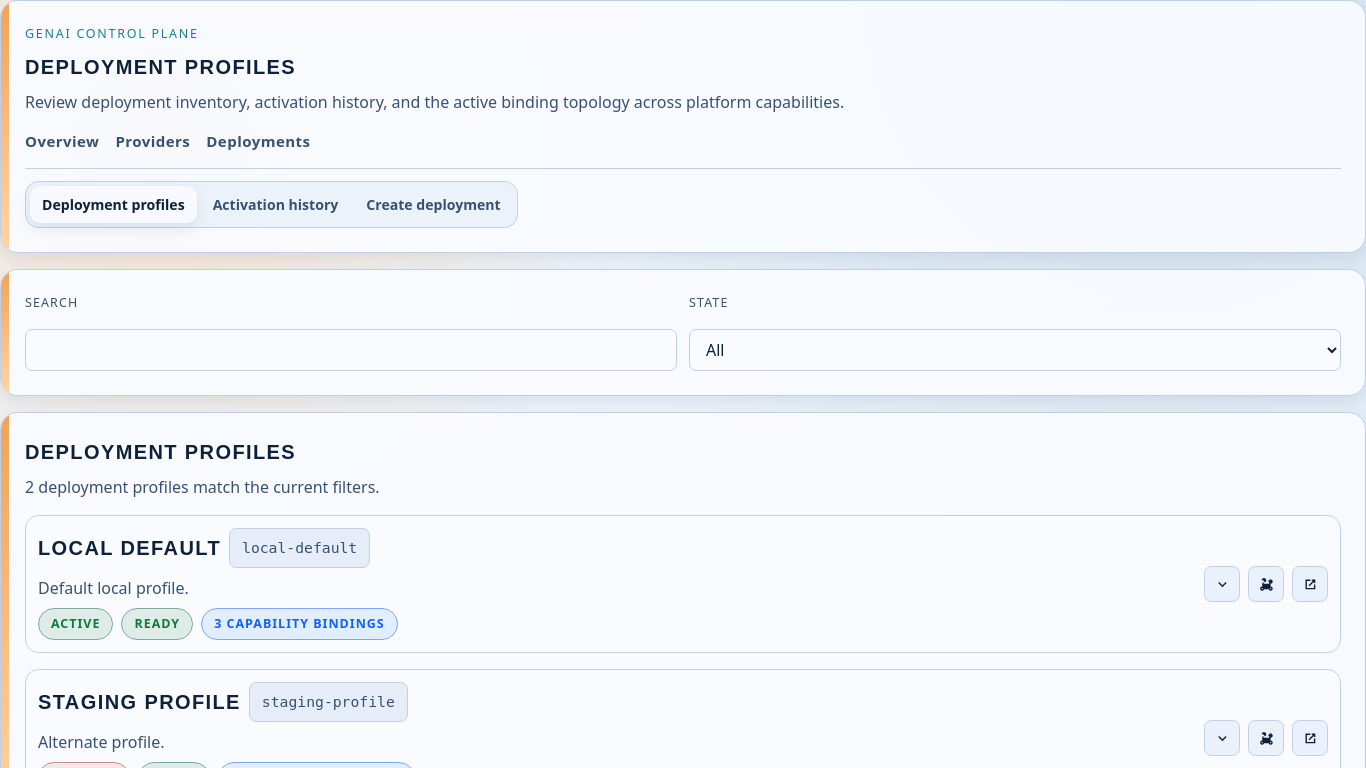
Test case: PlatformDeploymentsPage › renders deployment directory with view navigation
Check: the heading "Deployment profiles" below "GenAI control plane" is shown, box [25,56,296,78]
Check: the button "Activation history" is shown, box [201,186,350,223]
Click the button named "Show capability bindings for Local Default" at (1222, 584), box [1204,566,1240,602]
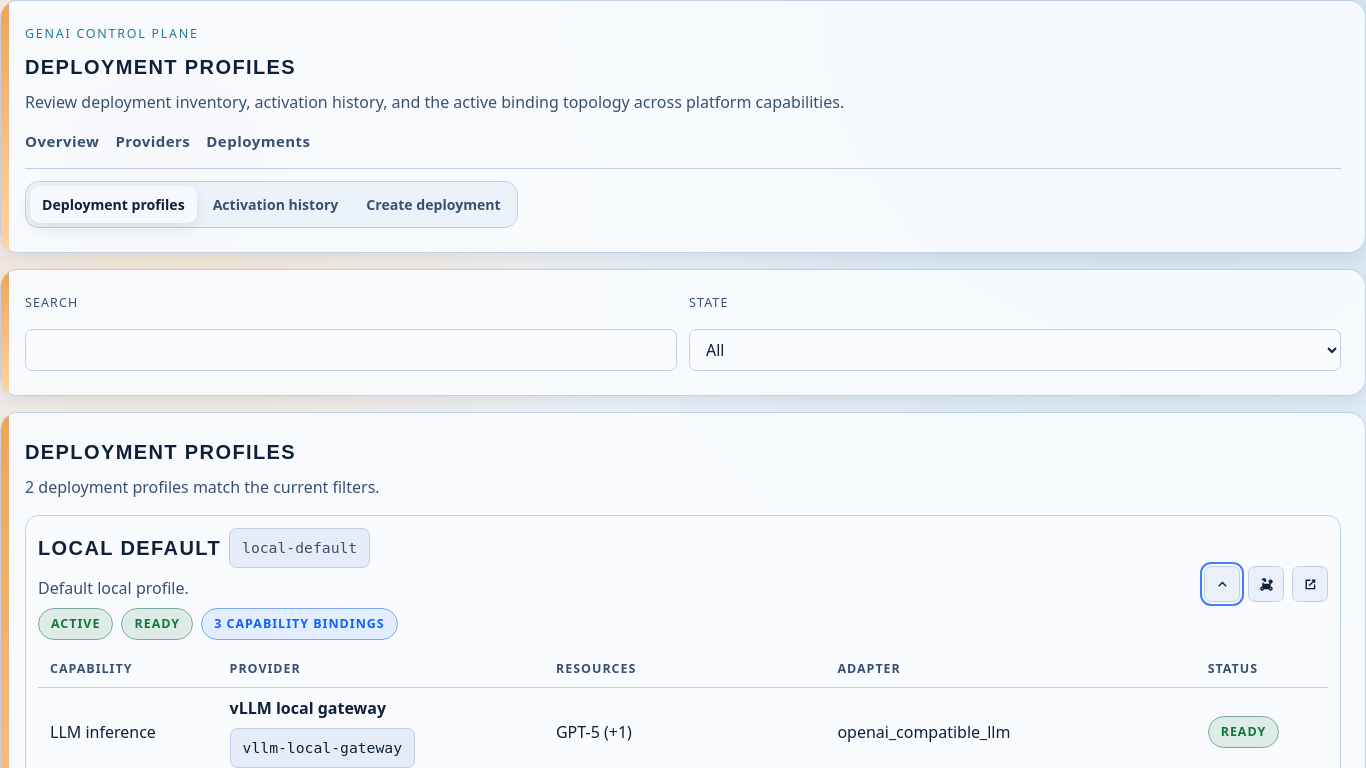
Check: the button named "Hide capability bindings for Local Default" is expanded, box [1204,566,1240,602]
